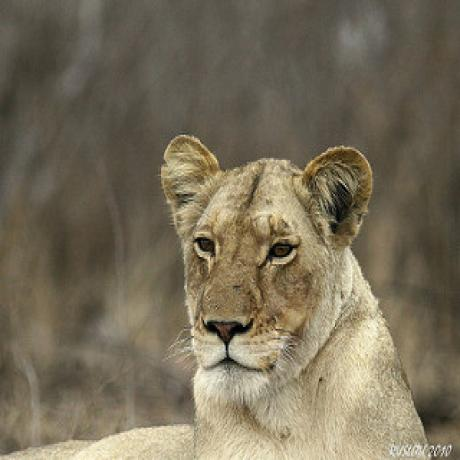Lion: (161, 132, 433, 460)
